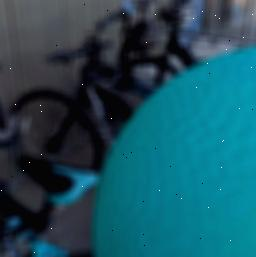algae: (93, 40, 256, 257)
